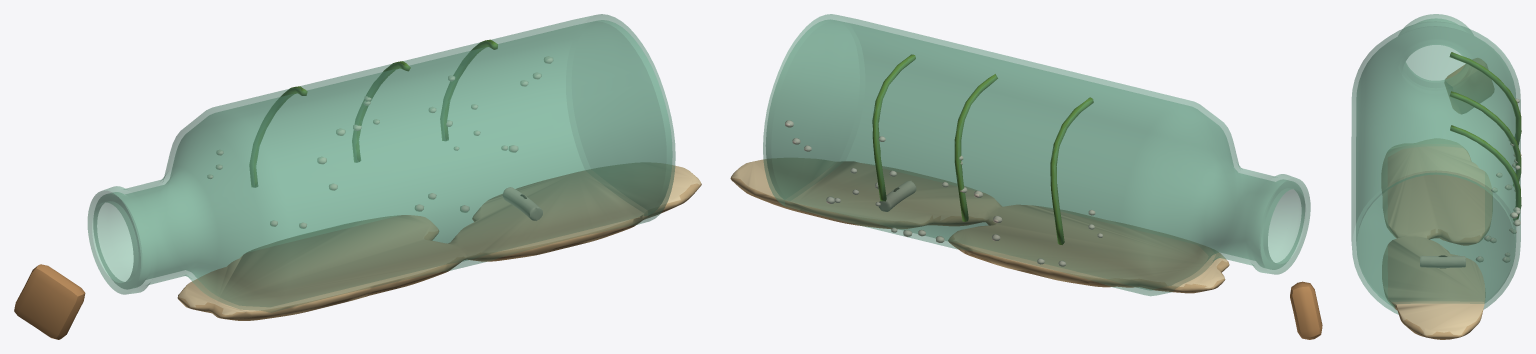
The model's file is shore_bottle.glb.
3 renders of one model, left to right at view 1: azimuth 30°, elevation 25°; view 2: azimuth 150°, elevation 25°; view 3: azimuth 270°, elevation 25°, orthographic. The views are drawn at different scales.
Parts seen in each view (by area): view 1: shore_bottle; view 2: shore_bottle; view 3: shore_bottle.
Part boxes in pixels (x1,y1,x2,y2): shore_bottle: (14, 14, 701, 339); shore_bottle: (730, 14, 1322, 339); shore_bottle: (1351, 14, 1521, 339).
Size of the model in its own units: 44.27 by 12.72 by 12.77.
